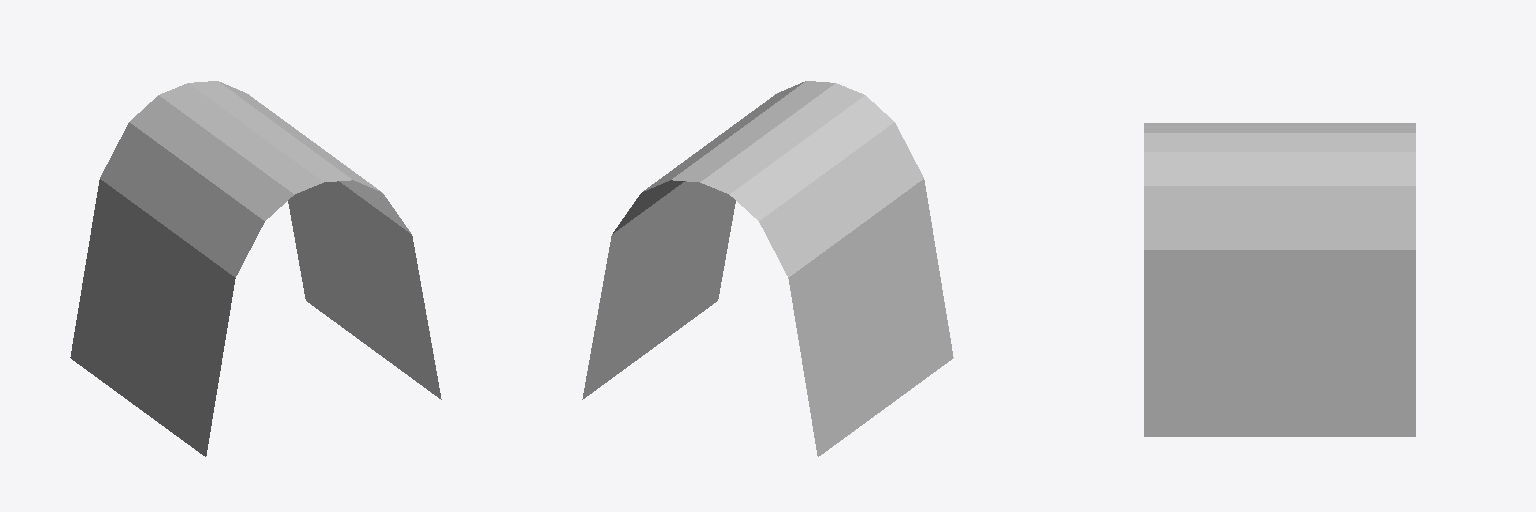
Rendered from Stone2b.obj.
The picture shows the model from 3 angles: view 1: azimuth 30°, elevation 25°; view 2: azimuth 150°, elevation 25°; view 3: azimuth 270°, elevation 25°; orthographic projection.
Visible parts, largest first — view 1: Grid_Grid.012_Grid_Grid.033_None.003; view 2: Grid_Grid.012_Grid_Grid.033_None.003; view 3: Grid_Grid.012_Grid_Grid.033_None.003.
Part boxes in pixels (x1,y1,x2,y2): Grid_Grid.012_Grid_Grid.033_None.003: (70,81,441,456); Grid_Grid.012_Grid_Grid.033_None.003: (582,81,953,456); Grid_Grid.012_Grid_Grid.033_None.003: (1144,123,1415,436).
Bounding box in the file's own units: 1 × 1 × 1.